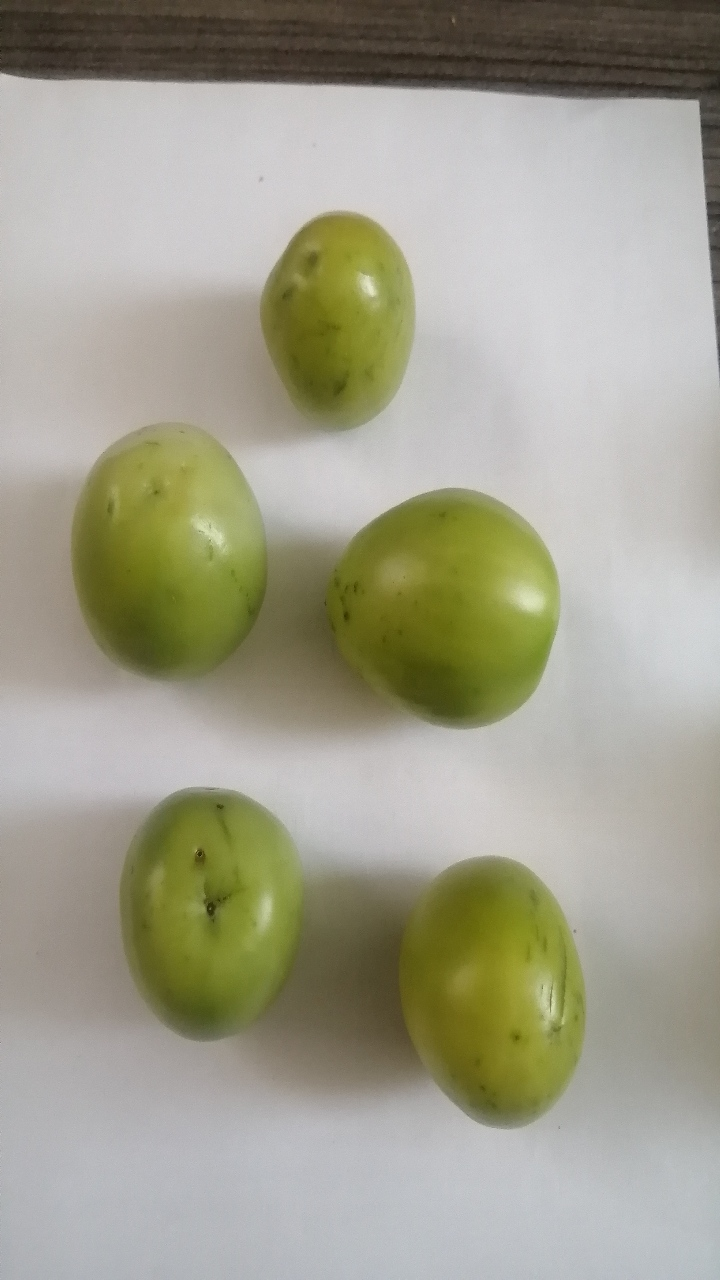tomateVerde: (34, 391, 300, 708), (323, 465, 575, 748), (389, 840, 617, 1152), (106, 766, 311, 1060), (226, 191, 437, 463)
